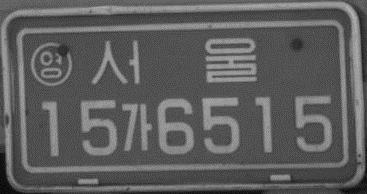1: (37, 97, 66, 160), (250, 93, 278, 156)
5: (292, 92, 334, 155), (77, 97, 120, 158), (200, 94, 242, 155)
6: (154, 97, 197, 156)
가: (120, 101, 153, 155)
서울_D: (89, 34, 260, 89)
영: (29, 39, 74, 89)
